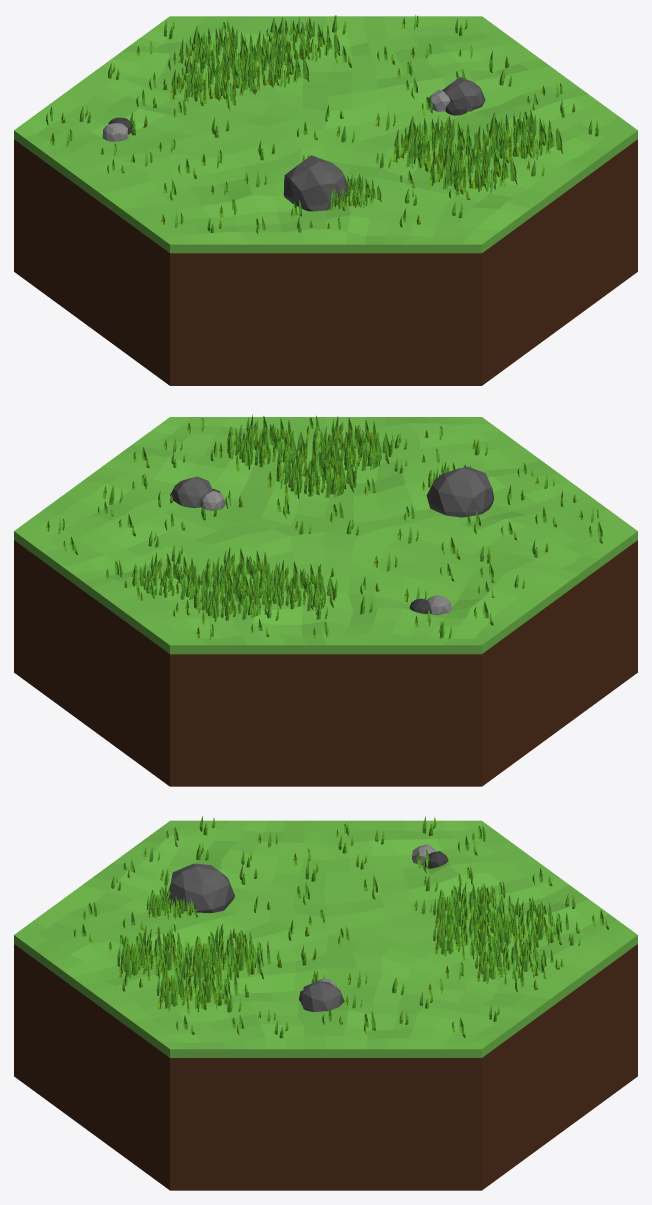
File: LeeresFeld.fbx
The picture shows the model from 3 angles, top to bottom: view 1: azimuth 30°, elevation 25°; view 2: azimuth 150°, elevation 25°; view 3: azimuth 270°, elevation 25°; orthographic projection.
Parts seen in each view (by area): view 1: Cylinder, Icosphere.004, Icosphere.001; view 2: Cylinder, Icosphere.004, Icosphere.001; view 3: Cylinder, Icosphere.004, Icosphere.001.
Part boxes in pixels (x1=…): Cylinder: x1=14, y1=16, x2=637, y2=385; Icosphere.004: x1=283, y1=155, x2=347, y2=211; Icosphere.001: x1=442, y1=77, x2=485, y2=111; Cylinder: x1=14, y1=417, x2=637, y2=786; Icosphere.004: x1=426, y1=466, x2=494, y2=517; Icosphere.001: x1=170, y1=476, x2=212, y2=507; Cylinder: x1=14, y1=820, x2=637, y2=1190; Icosphere.004: x1=170, y1=863, x2=234, y2=912; Icosphere.001: x1=301, y1=981, x2=344, y2=1011.
Bounding box in the file's own units: 173 × 61.84 × 200.
